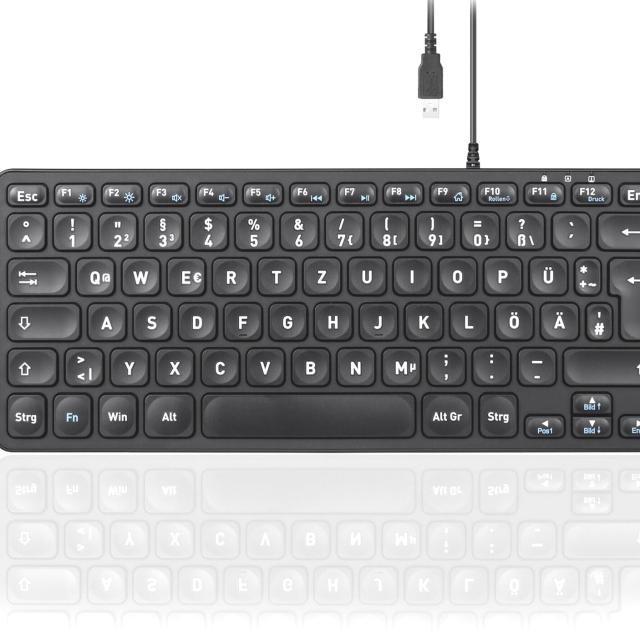0: (458, 209, 498, 249)
1: (51, 210, 91, 248)
2: (96, 210, 137, 249)
3: (141, 210, 182, 249)
4: (187, 210, 227, 249)
5: (232, 209, 273, 249)
6: (277, 209, 318, 249)
7: (323, 209, 363, 249)
8: (367, 209, 408, 249)
9: (412, 209, 454, 248)
a: (85, 300, 125, 339)
accent: (549, 209, 589, 247)
ae: (538, 299, 578, 339)
alt-left: (141, 391, 195, 436)
altgr-right: (418, 390, 472, 437)
b: (289, 345, 330, 384)
c: (198, 345, 239, 385)
caret: (4, 210, 45, 249)
comma: (425, 344, 464, 384)
d: (176, 300, 216, 340)
del: (595, 210, 640, 249)
e: (165, 255, 206, 294)
enter: (606, 255, 640, 340)
f: (222, 300, 261, 339)
g: (266, 300, 306, 340)
h: (312, 300, 351, 339)
hash: (584, 300, 612, 340)
i: (391, 254, 431, 292)
j: (358, 299, 397, 339)
k: (403, 299, 443, 339)
keyboard: (0, 164, 640, 451)
l: (448, 299, 487, 339)
less: (61, 345, 102, 385)
m: (379, 345, 421, 385)
minus: (515, 345, 555, 384)
n: (334, 344, 375, 385)
o: (436, 254, 477, 294)
oe: (493, 300, 533, 339)
p: (482, 254, 522, 293)
plus: (572, 255, 600, 294)
point: (470, 345, 510, 384)
q: (73, 255, 115, 294)
r: (210, 255, 250, 293)
s: (130, 300, 170, 340)
shift-left: (4, 345, 57, 384)
shift-lock: (4, 300, 79, 339)
shift-right: (561, 344, 640, 385)
space: (200, 390, 416, 438)
ss: (503, 209, 544, 248)
strg-left: (4, 391, 46, 437)
strg-right: (476, 391, 517, 437)
t: (256, 254, 295, 293)
tab: (3, 255, 68, 294)
u: (346, 254, 386, 293)
ue: (526, 254, 567, 294)
v: (244, 345, 285, 384)
w: (119, 255, 159, 294)
x: (154, 345, 194, 384)
y: (107, 345, 148, 384)
z: (301, 255, 341, 294)
